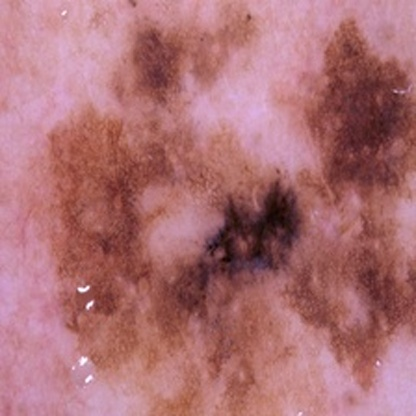malignant: (52, 95, 403, 392)
